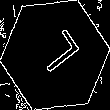L_SW: (28, 28, 82, 82)
